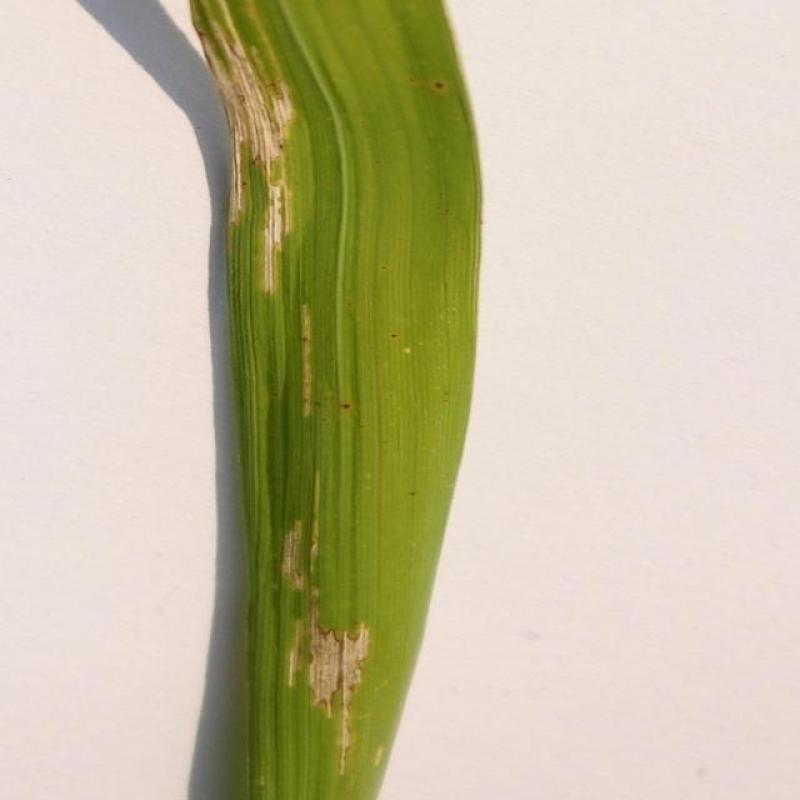Bacterial_Leaf_Blight: (181, 7, 329, 362), (269, 474, 375, 798)
